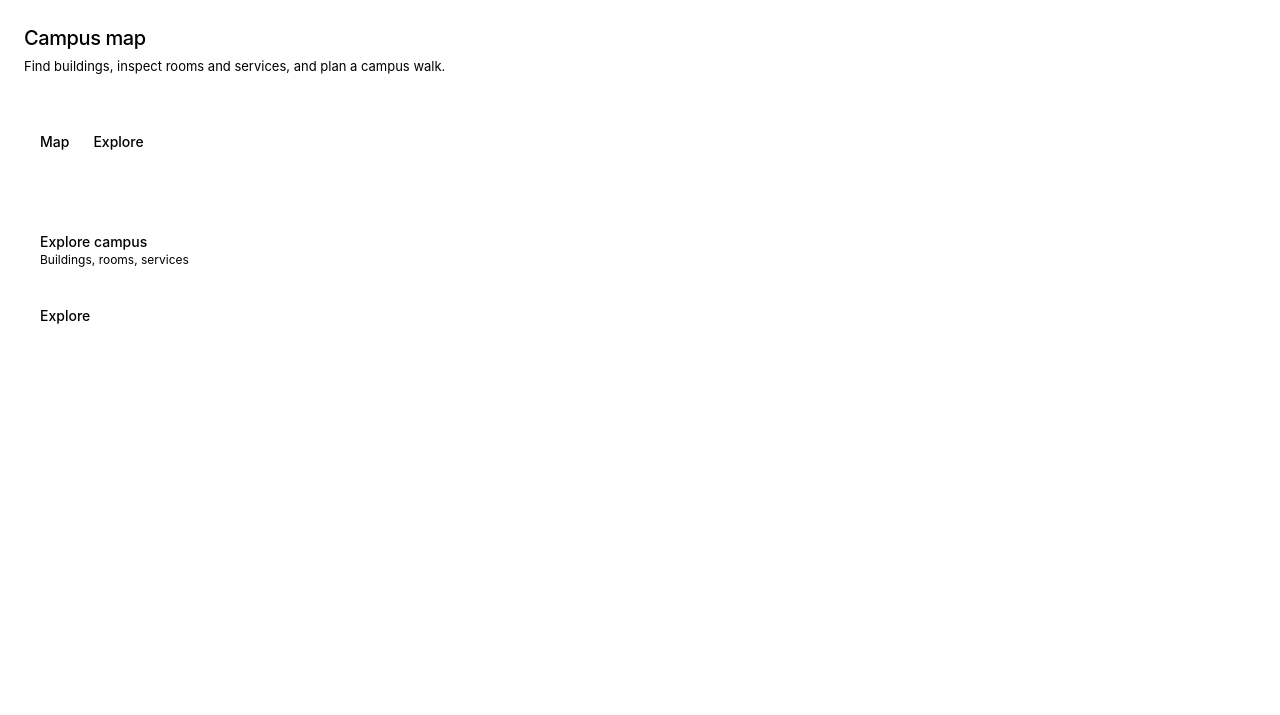
Test: MapArea › reserves the split Explore sheet and map during navigation suspension
expect the heading "Campus map" is shown: met, box x1=24 y1=26 x2=146 y2=50
What coordinates should you click on to do the following:
click the button with aria-label "Open Explore"
I would click on:
 (94, 242)
Its box is x1=24 y1=184 x2=1256 y2=292.
(page scrolled)
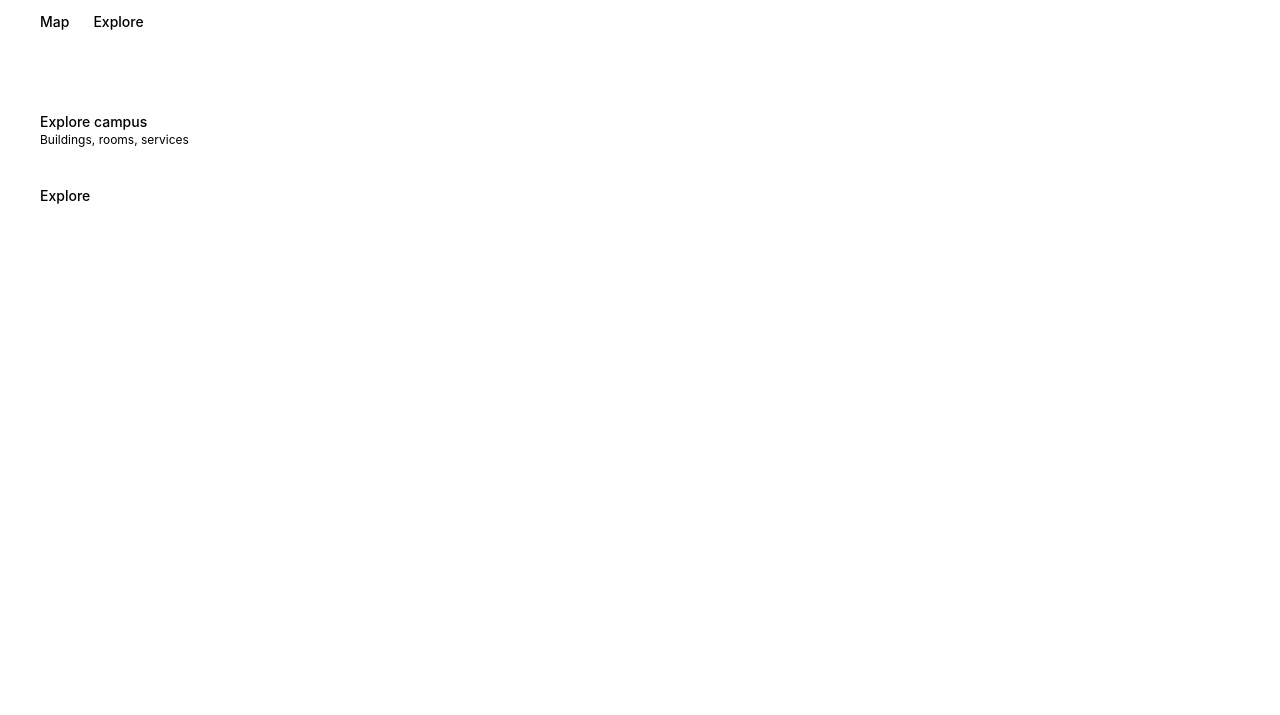
expect the button with aria-label "Collapse Explore" is shown: met, box x1=24 y1=64 x2=1256 y2=172
